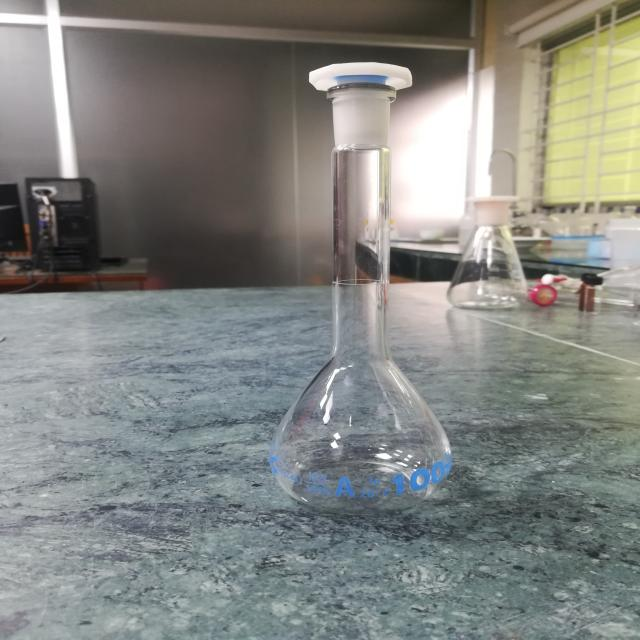Volumetric_Flask: (254, 0, 471, 523)
